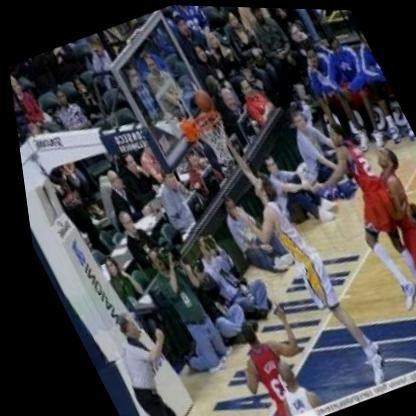basketball: (185, 82, 219, 114)
